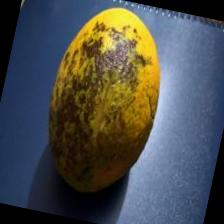Orange Rotten: (21, 0, 188, 218)
